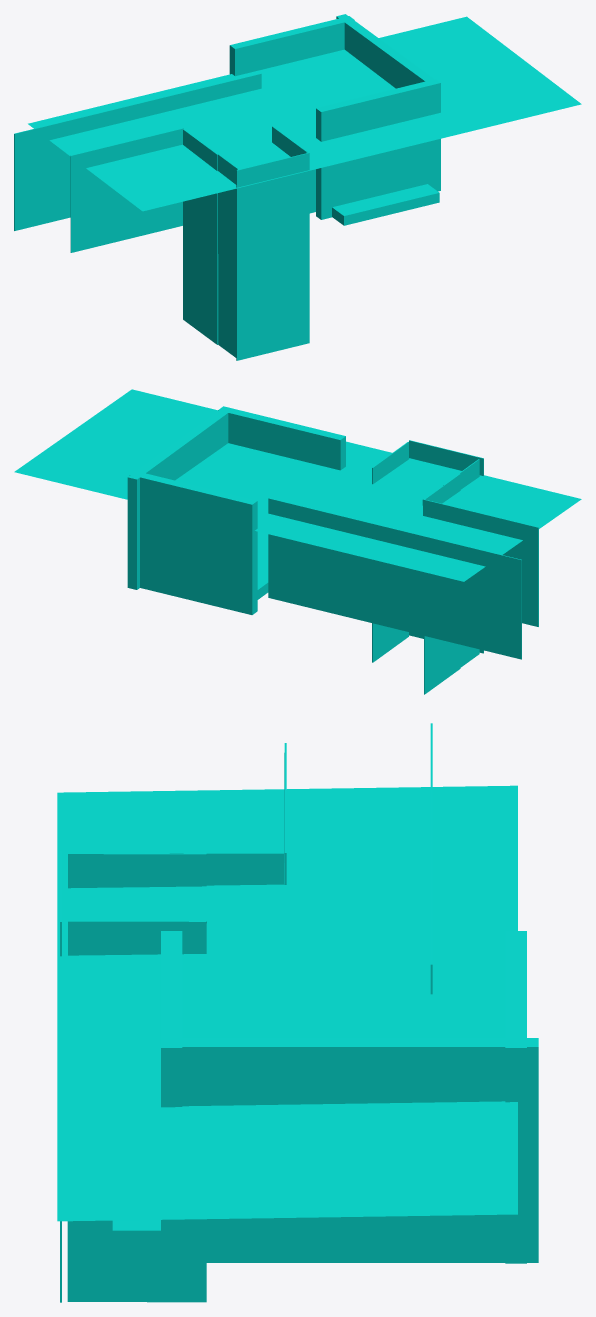
File: metal-soundmesh.fbx
3 views of the same model, one above another, from view 1: azimuth 30°, elevation 25°; view 2: azimuth 150°, elevation 25°; view 3: azimuth 270°, elevation 25° (orthographic). The views are drawn at different scales.
Parts seen in each view (by area): view 1: metal3; view 2: metal3; view 3: metal3.
Boxes of the visible parts, bbox=[...] form: metal3: bbox=[14, 14, 581, 360]; metal3: bbox=[14, 389, 581, 694]; metal3: bbox=[57, 723, 538, 1302].
Bounding box in the file's own units: 51.05 × 20.95 × 22.44.
